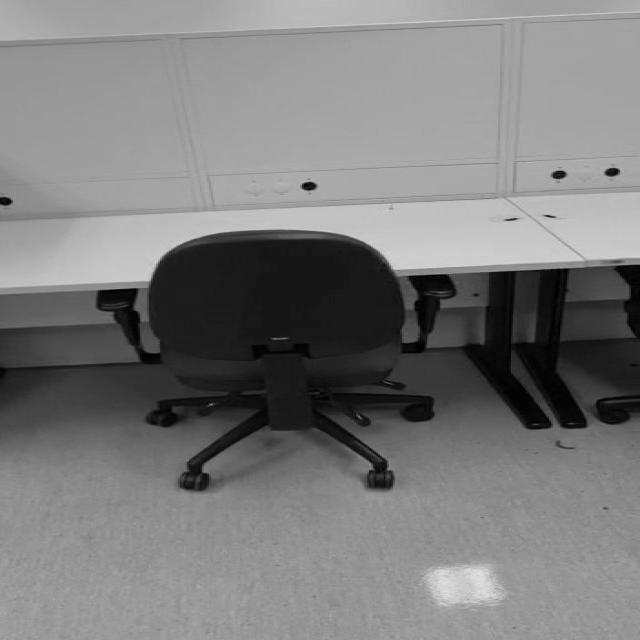chair: (94, 228, 457, 491)
